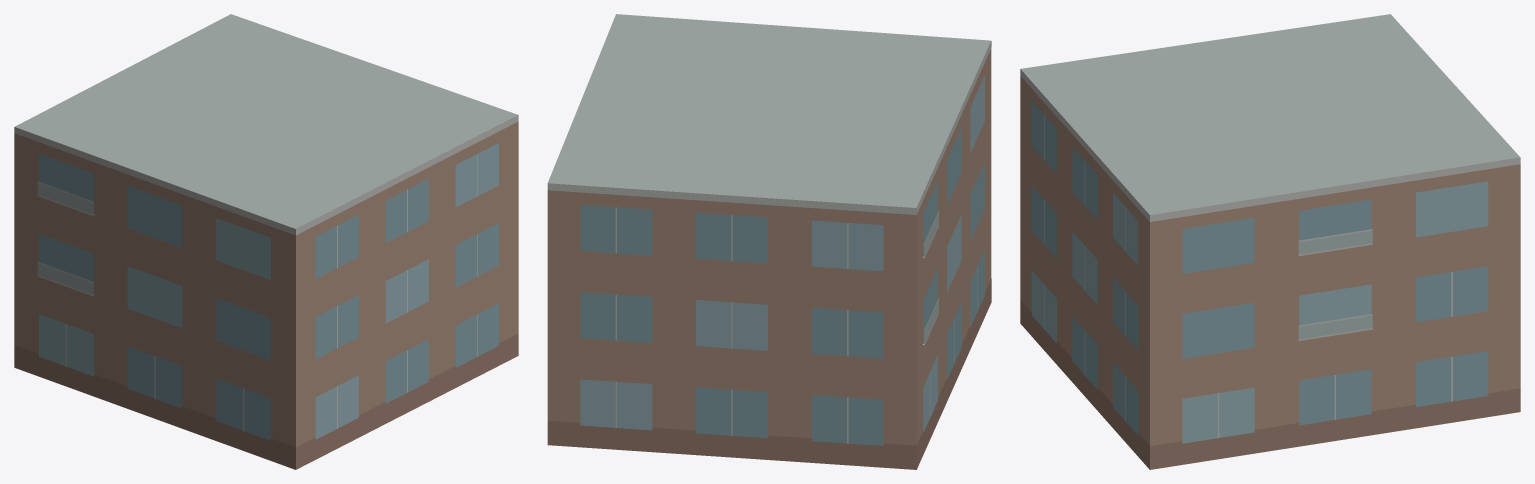
Rendered from survey-upis-32672146.glb.
3 views of the same model, side by side, from view 1: azimuth 30°, elevation 25°; view 2: azimuth 150°, elevation 25°; view 3: azimuth 270°, elevation 25° (orthographic). The views are drawn at different scales.
Visible parts, largest first — view 1: survey-upis-32672146.tmp; view 2: survey-upis-32672146.tmp; view 3: survey-upis-32672146.tmp.
Part boxes in pixels (bbox=[...]): survey-upis-32672146.tmp: bbox=[14, 14, 518, 469]; survey-upis-32672146.tmp: bbox=[547, 14, 991, 469]; survey-upis-32672146.tmp: bbox=[1020, 14, 1520, 469].
Bounding box in the file's own units: 15.53 × 9.15 × 16.31.
